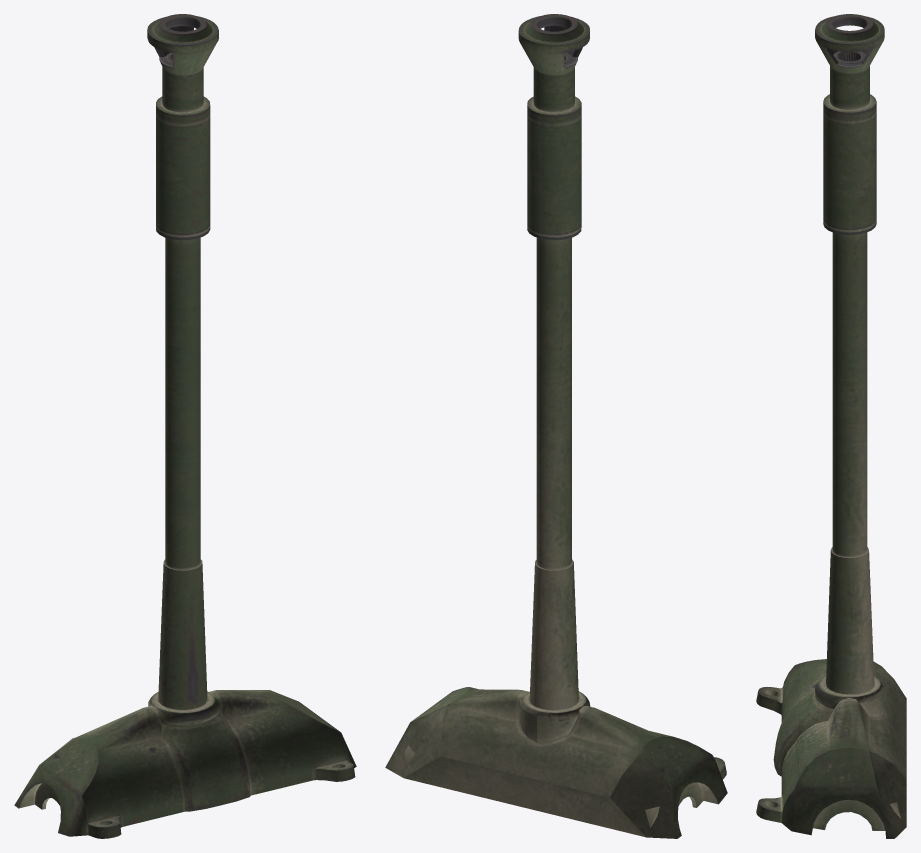
File: Gun_08.glb
The picture shows the model from 3 angles, left to right: view 1: azimuth 30°, elevation 25°; view 2: azimuth 150°, elevation 25°; view 3: azimuth 270°, elevation 25°; orthographic projection. The views are drawn at different scales.
Parts seen in each view (by area): view 1: set_0_group_0; view 2: set_0_group_0; view 3: set_0_group_0.
Boxes of the visible parts, x1=… form: set_0_group_0: x1=14, y1=14, x2=356, y2=838; set_0_group_0: x1=385, y1=14, x2=727, y2=838; set_0_group_0: x1=756, y1=14, x2=906, y2=838.
Size of the model in its own units: 1.45 by 3.61 by 0.6615.
1 material, 1 textured.
